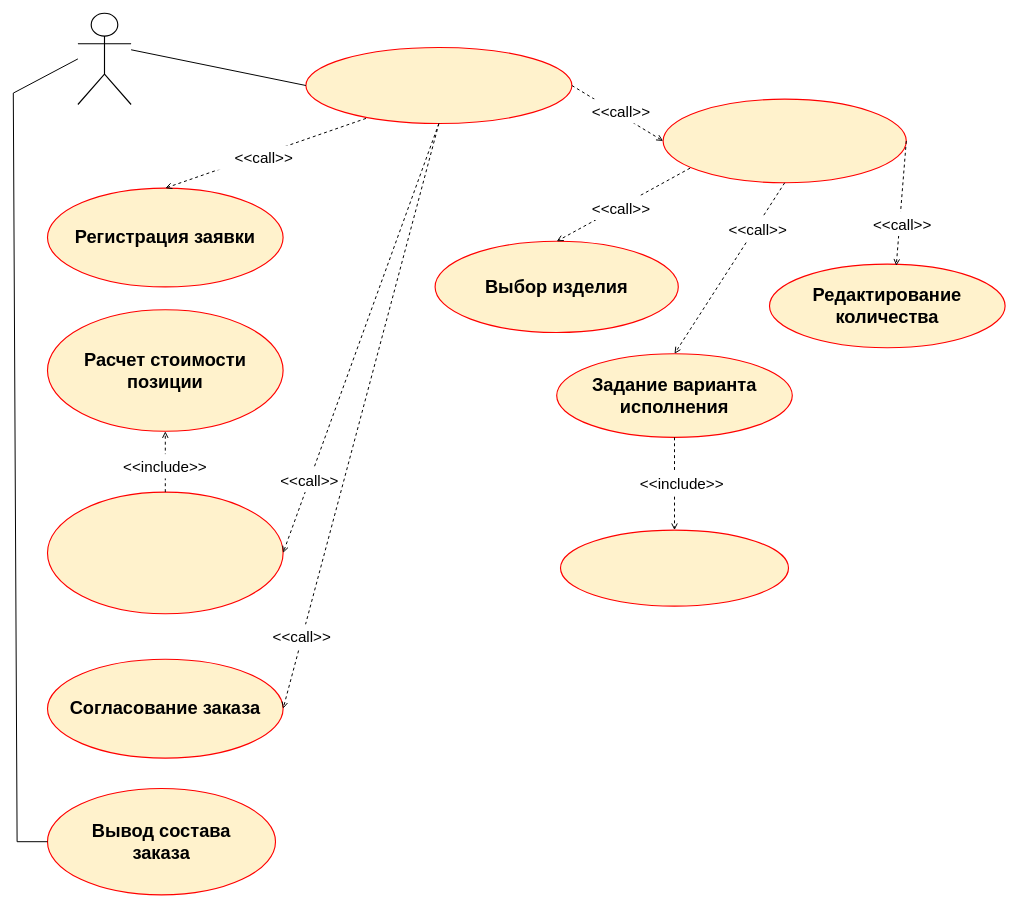
Image size: 1019x909. Some labels were removed from this diagram. The shapes that lost their labels are listed below. From the top down, each one's box as (x1, y1, x2, y2) in pixels, then its label:
(77, 12, 131, 105): Отдел сбыта
(305, 47, 572, 124): Подготовка заказа
(662, 98, 907, 183): Формирование позиций заказа
(47, 491, 283, 614): Расчет стоимости заказа
(560, 529, 789, 606): Проверка ограничений
